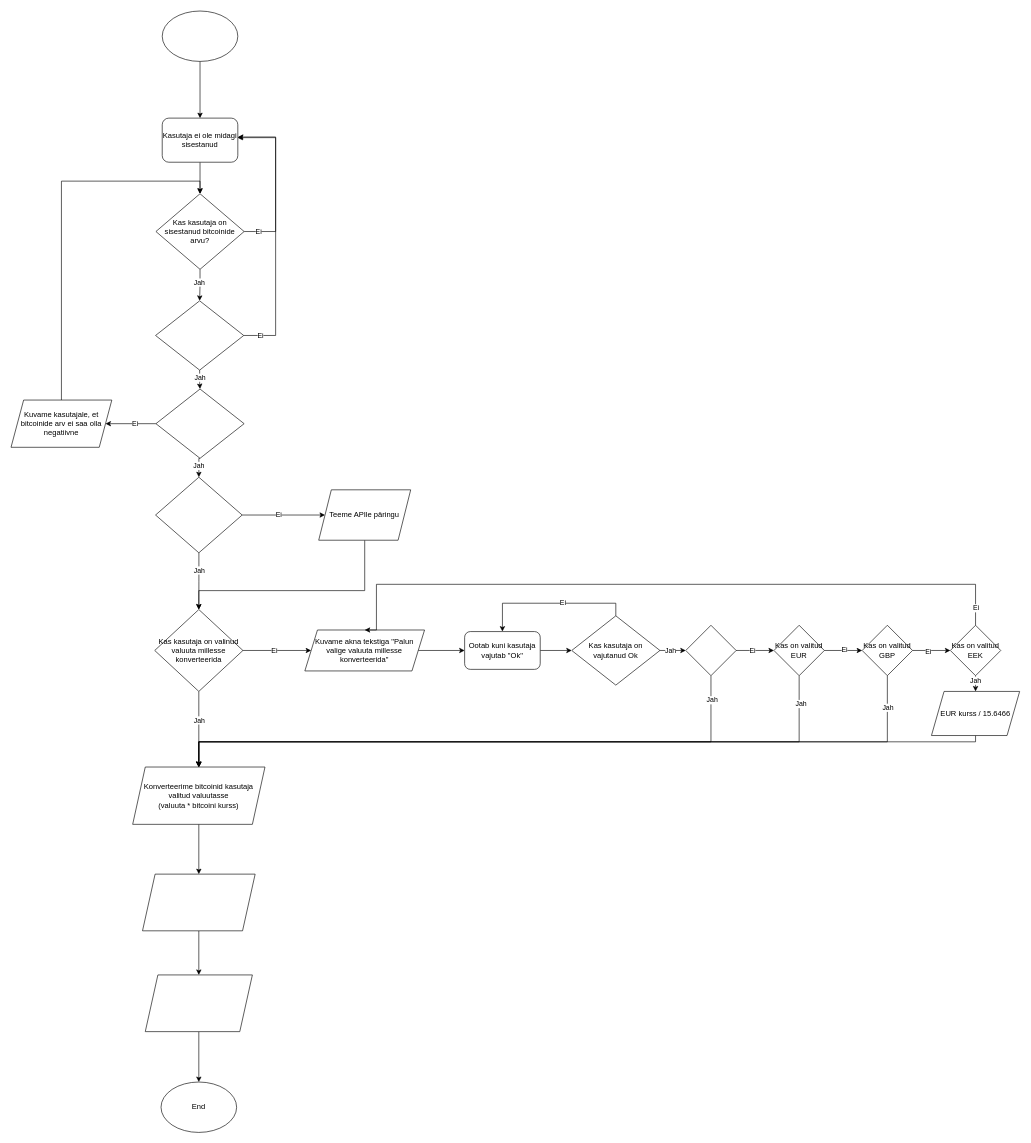
The diagram is 1031 pixels wide and 1143 high, and some of its shapes have lost their labels. The shapes that lost their labels are listed below. From the top down, each one's box as (x1, y1, x2, y2) in pixels, then its label:
(162, 10, 238, 61): Start
(155, 300, 244, 370): Kas kasutaja on vajutanud nuppu
(155, 388, 244, 458): Kas sisestatud bitcoinide arv on positiivne
(155, 477, 242, 553): Kas APIst on saadud andmed
(685, 625, 736, 676): Kas on valitud USD
(142, 873, 255, 931): Kuvame kasutajale konverteeritud tulemused
(145, 974, 252, 1032): Tühjendame kõik väljad
